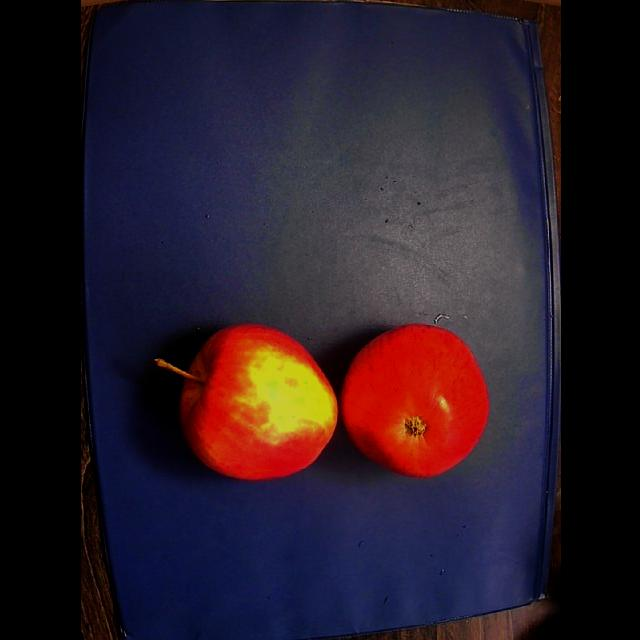manzana: (154, 324, 337, 480), (340, 324, 489, 478)
